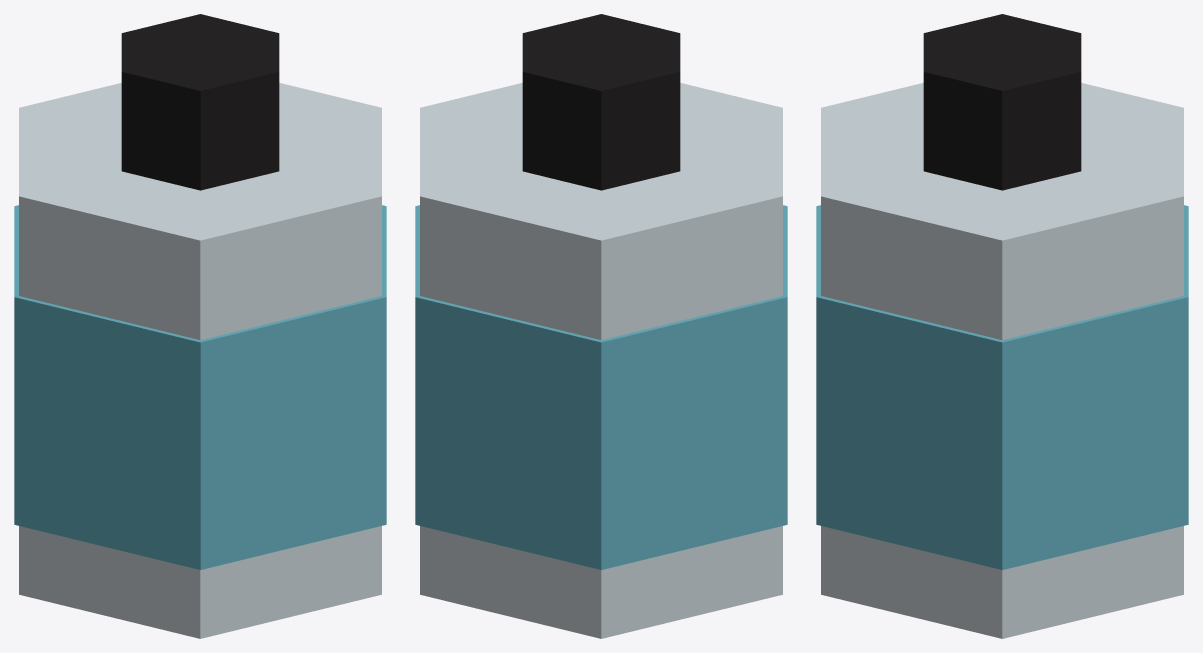
File: item_rm_neutroamine_a.obj
3 renders of one model, left to right at view 1: azimuth 30°, elevation 25°; view 2: azimuth 150°, elevation 25°; view 3: azimuth 270°, elevation 25°, orthographic.
Size of the model in its own units: 0.3918 by 0.5005 by 0.3392.
